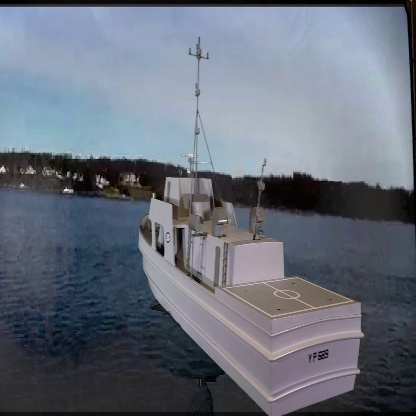YP689: (137, 35, 365, 416)
